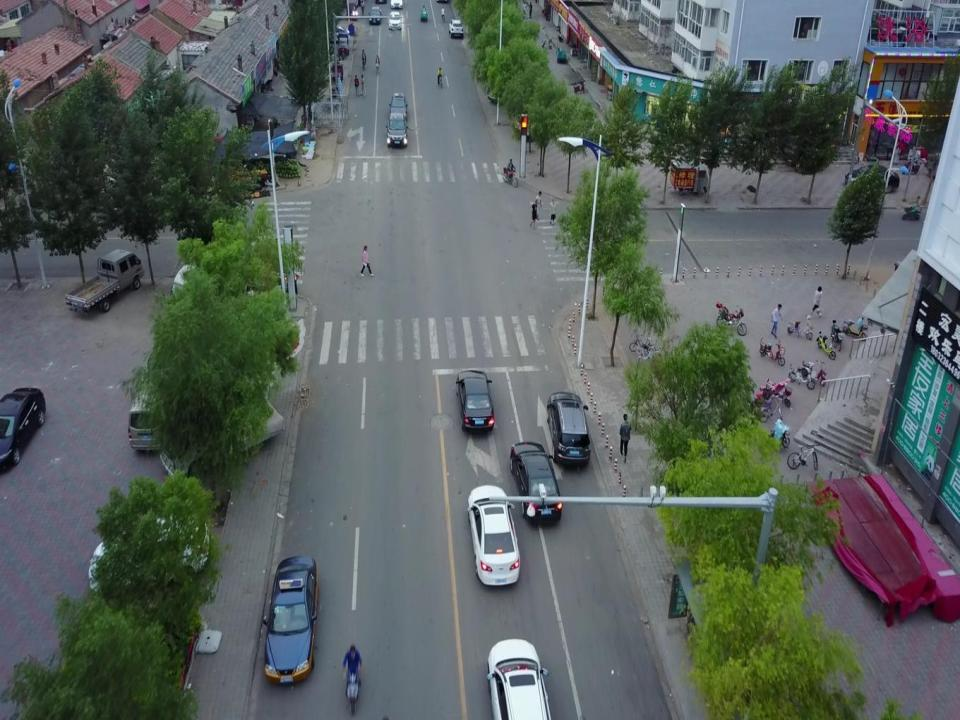car: (86, 517, 208, 589), (268, 557, 316, 685), (484, 638, 555, 720), (469, 487, 521, 584), (130, 350, 174, 451), (512, 441, 561, 522), (547, 391, 588, 465), (3, 389, 46, 457), (455, 369, 492, 430), (841, 156, 899, 194), (387, 116, 407, 148), (346, 677, 360, 715), (390, 91, 406, 118), (449, 18, 464, 38), (388, 11, 402, 30), (370, 4, 381, 24)
truck: (64, 250, 144, 312)
